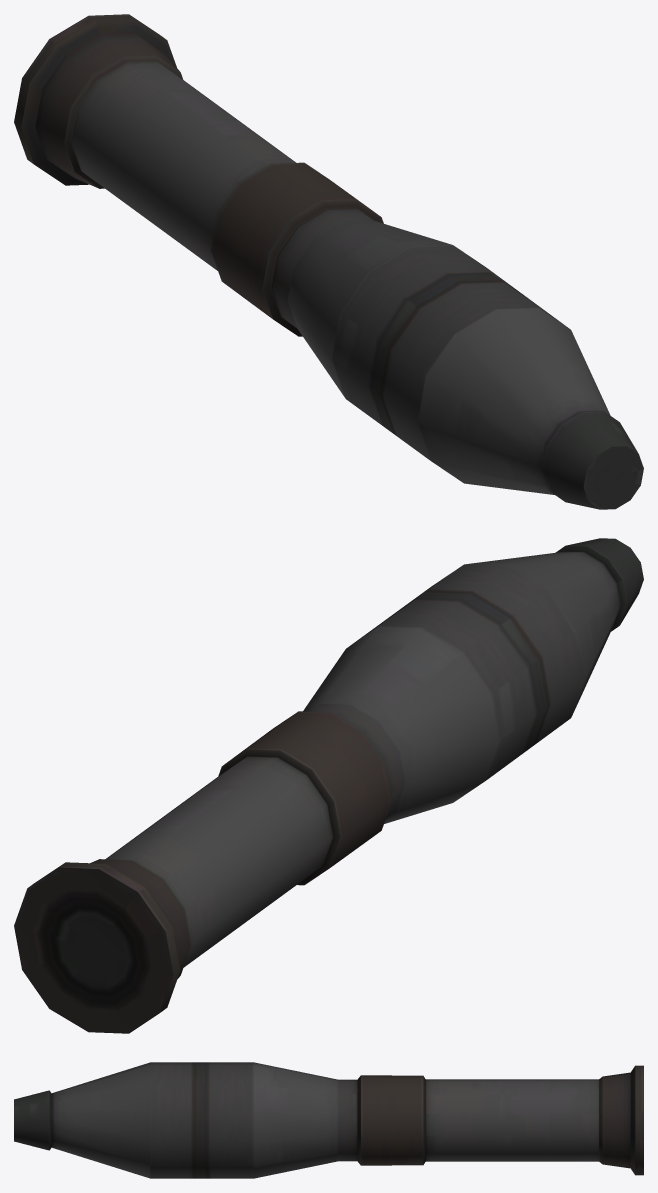
Rendered from rocket.glb.
3 views of the same model, one above another, from view 1: azimuth 30°, elevation 25°; view 2: azimuth 150°, elevation 25°; view 3: azimuth 270°, elevation 25° (orthographic). The views are drawn at different scales.
Visible parts, largest first — view 1: w_rocket; view 2: w_rocket; view 3: w_rocket.
Part boxes in pixels (x1,y1,x2,y2): w_rocket: [14, 14, 643, 509]; w_rocket: [14, 538, 643, 1033]; w_rocket: [14, 1062, 643, 1178].
Bounding box in the file's own units: 0.1736 × 0.1736 × 0.9307.
1 material, 1 textured.
